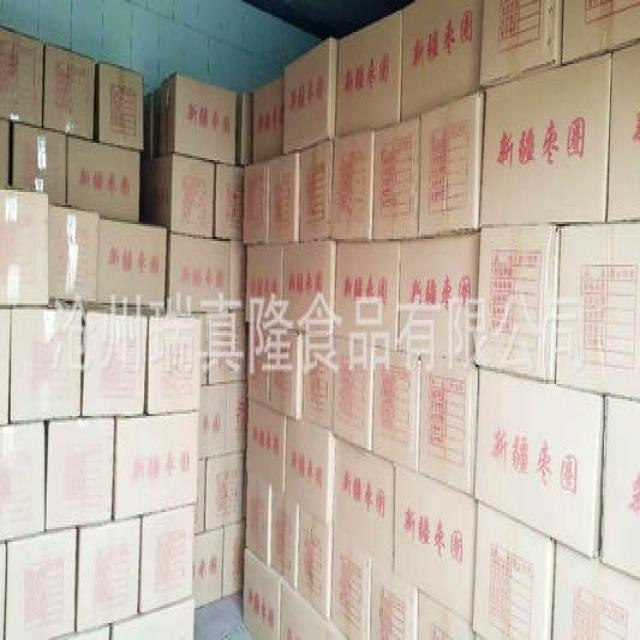box: (473, 367, 605, 557), (480, 50, 611, 227), (557, 220, 639, 401), (393, 461, 477, 622), (474, 227, 560, 381), (472, 501, 558, 638), (399, 233, 480, 358), (419, 91, 486, 239), (8, 294, 84, 423), (401, 2, 482, 120), (112, 409, 199, 518), (419, 352, 479, 498), (334, 9, 402, 137), (551, 541, 639, 638), (333, 436, 396, 569), (5, 527, 79, 638), (45, 416, 114, 530), (81, 303, 150, 415), (77, 513, 141, 633), (477, 3, 562, 91), (601, 393, 639, 582), (159, 74, 237, 165), (336, 239, 401, 348), (138, 151, 217, 237), (64, 135, 141, 222), (281, 39, 338, 154), (95, 220, 168, 308), (373, 342, 421, 469), (144, 304, 200, 412), (140, 503, 195, 611), (0, 187, 49, 306), (373, 117, 420, 241), (285, 413, 335, 526), (609, 43, 639, 222), (164, 231, 230, 312), (6, 119, 66, 205), (49, 205, 100, 305), (284, 241, 337, 337), (44, 43, 95, 140), (562, 3, 639, 65), (331, 131, 373, 242), (0, 23, 45, 126), (332, 340, 374, 449), (331, 528, 372, 636), (93, 61, 143, 149), (368, 558, 420, 637), (297, 507, 334, 618), (243, 541, 283, 638), (246, 399, 285, 495), (111, 594, 194, 638), (280, 581, 345, 636), (418, 586, 487, 637), (268, 324, 304, 419), (300, 143, 333, 243), (303, 332, 335, 433), (207, 448, 247, 528), (246, 241, 284, 324), (267, 148, 300, 241), (270, 487, 299, 587), (252, 74, 283, 160), (245, 467, 271, 566), (211, 312, 247, 382), (193, 528, 223, 611), (241, 158, 269, 245), (180, 308, 211, 383), (199, 382, 227, 460), (216, 162, 243, 242), (246, 321, 270, 406), (222, 520, 247, 598), (0, 304, 13, 425), (227, 378, 248, 451), (228, 239, 247, 311), (236, 90, 253, 162), (143, 89, 160, 160), (194, 461, 206, 536), (0, 114, 12, 188), (52, 622, 111, 636), (1, 540, 6, 635)
